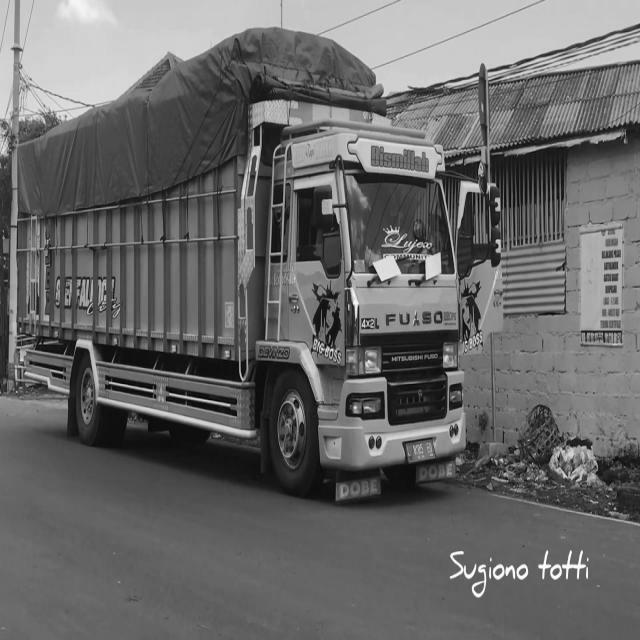truck: (239, 93, 504, 510)
